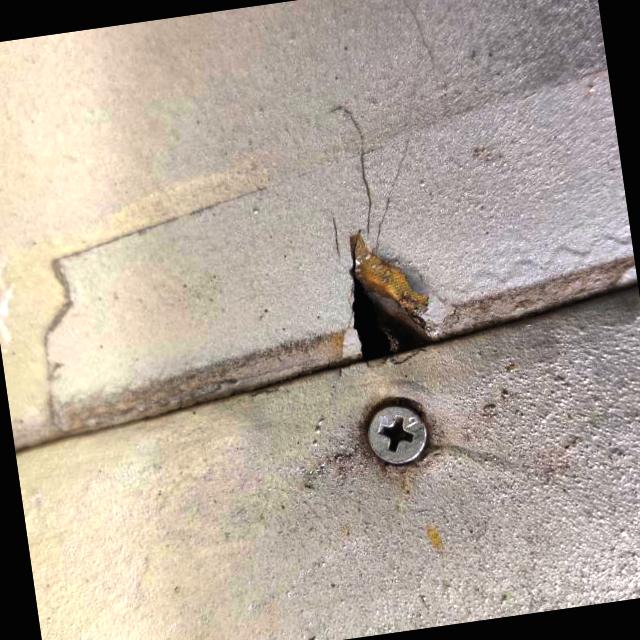crack: (290, 193, 483, 402)
